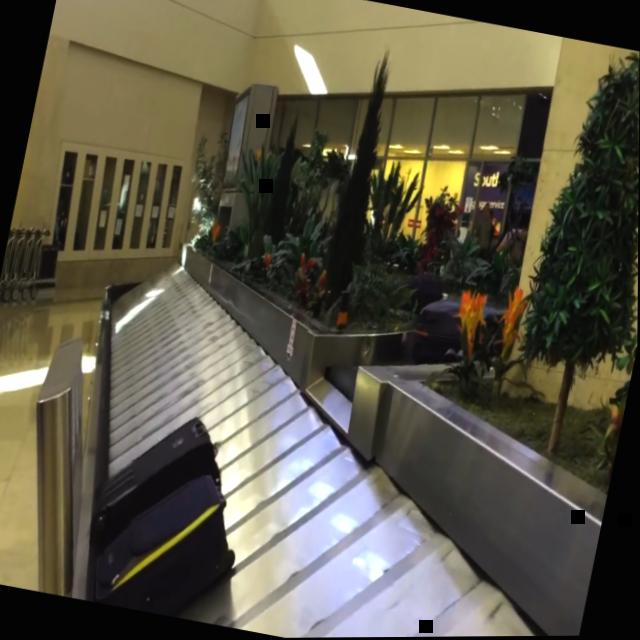luggage: (90, 453, 254, 627), (85, 399, 234, 567), (411, 279, 514, 377)
